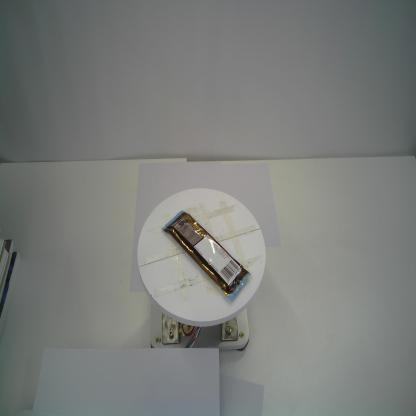Chocolate: (162, 209, 251, 303)
